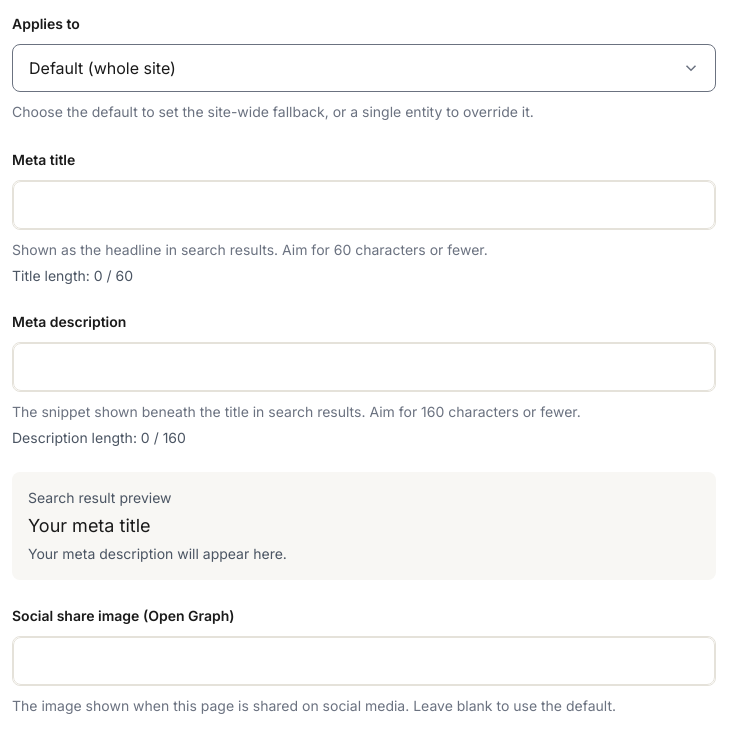
Scenario: SeoMetadataEditor › shows a live, polite character counter for the meta title
In the field labelled "Meta title": (364, 205) [13,181,715,229], type "Hello"
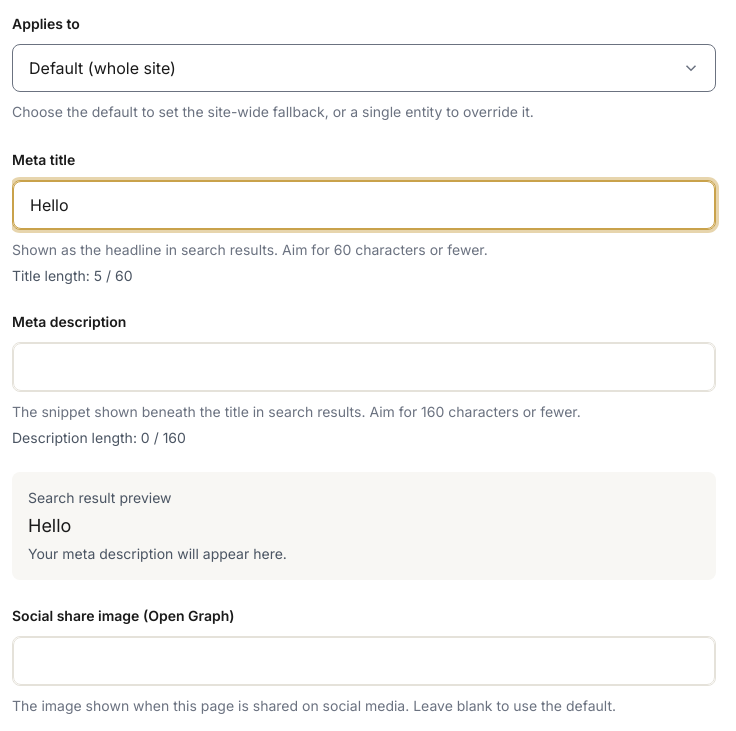
Expected: the text "Title length: 5 / 60" is shown, [12,267,132,284]
